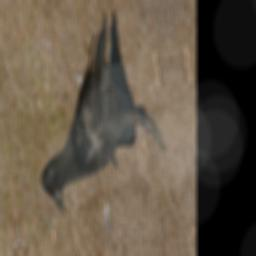Crow: (18, 7, 171, 212)
